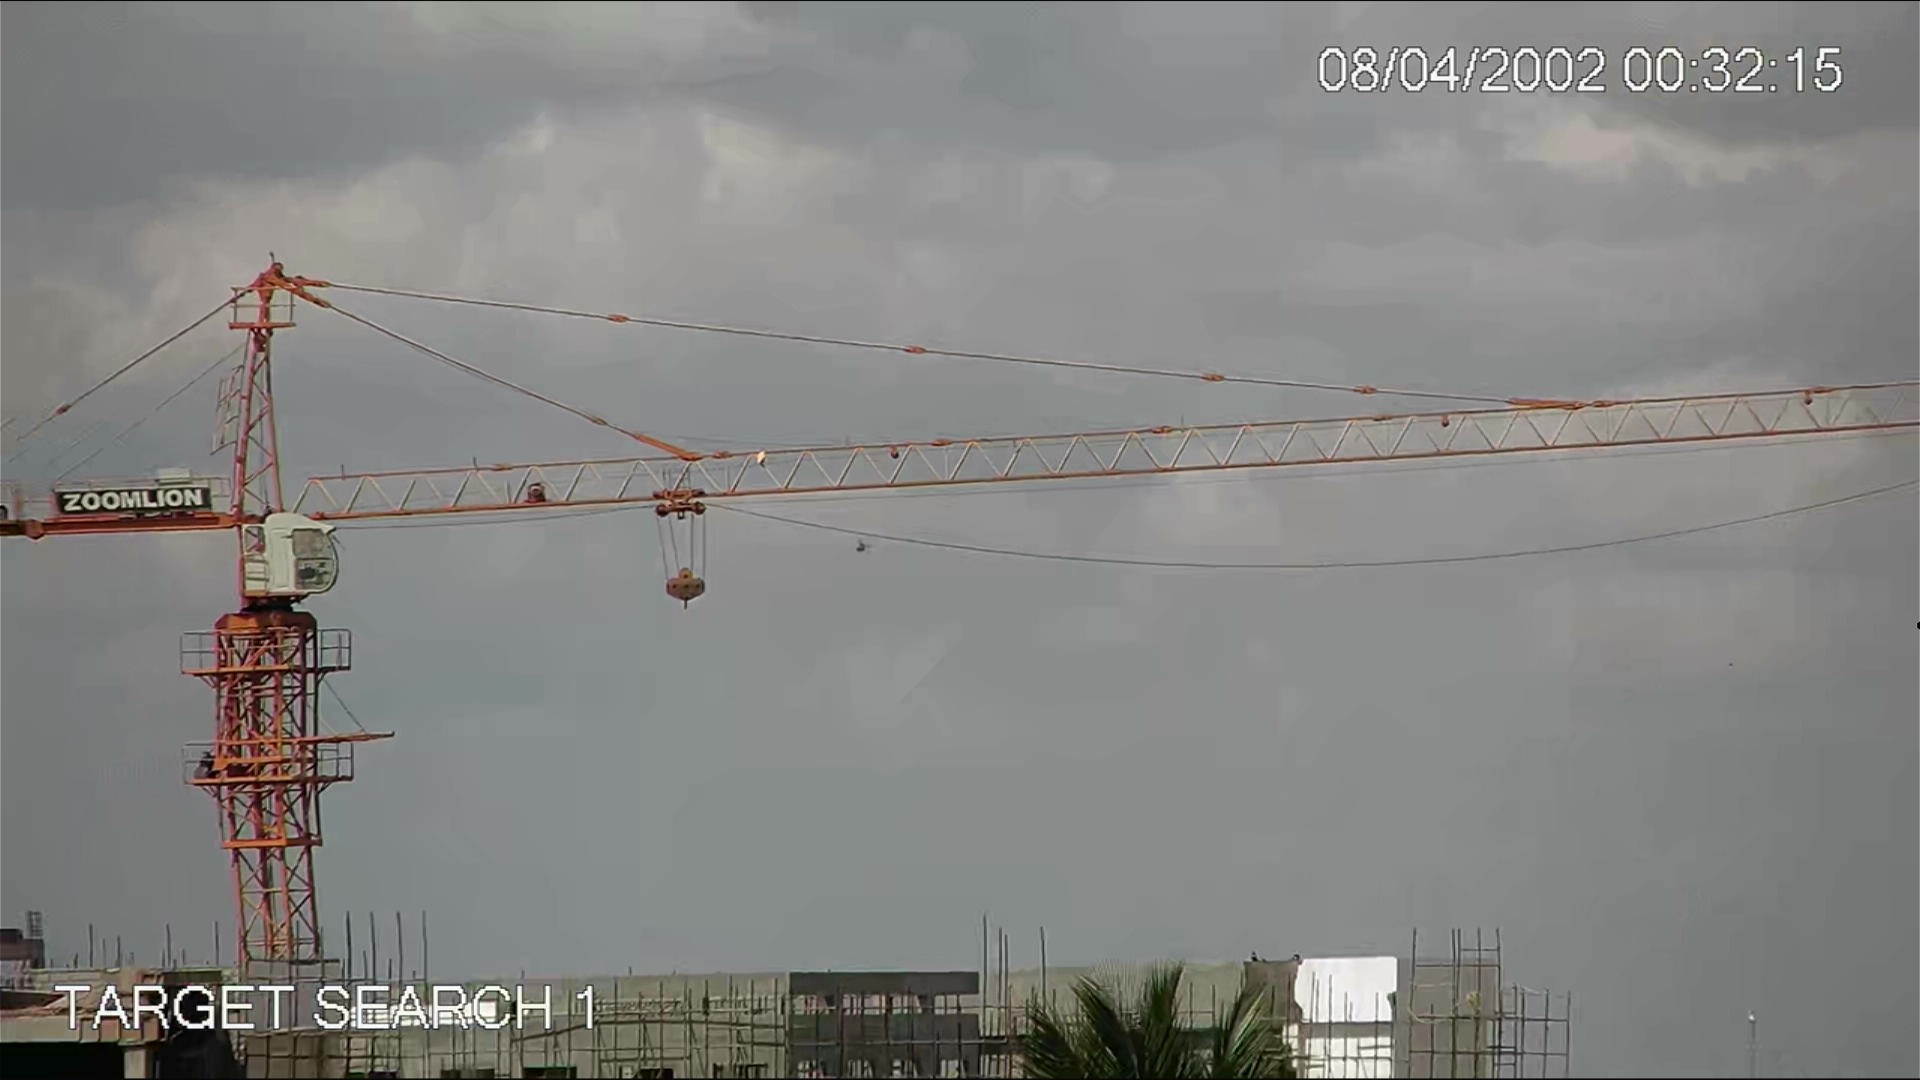SU_30: (837, 534, 877, 562)
